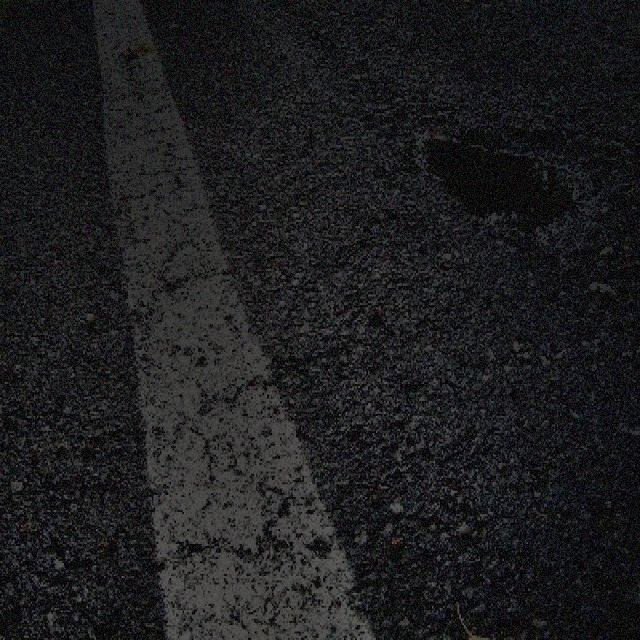pothole: (410, 113, 603, 267)
